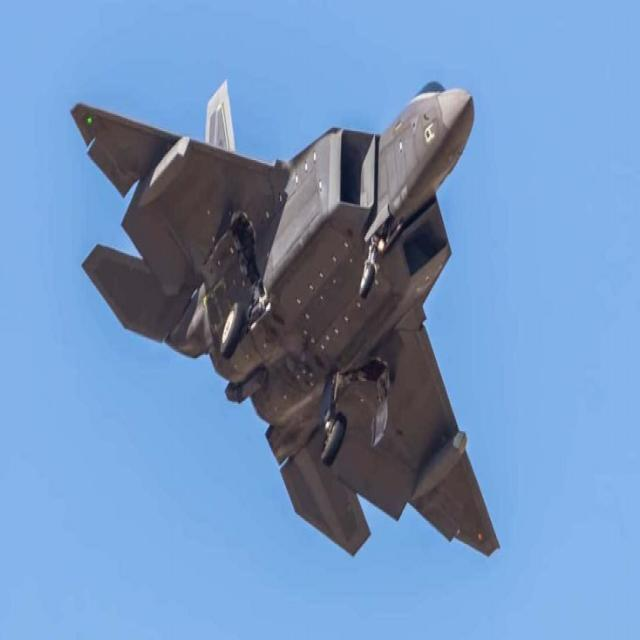F22: (72, 61, 503, 567)
